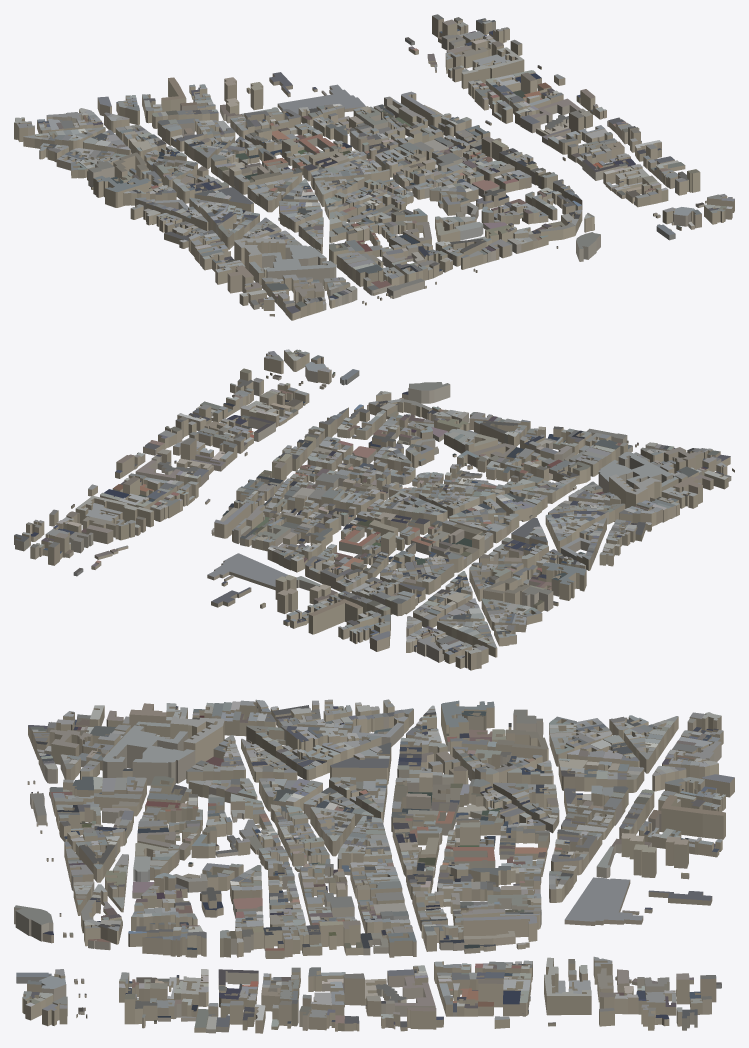
3 renders of one model, top to bottom at view 1: azimuth 30°, elevation 25°; view 2: azimuth 150°, elevation 25°; view 3: azimuth 270°, elevation 25°, orthographic. The views are drawn at different scales.
Parts seen in each view (by area): view 1: tuile; view 2: tuile; view 3: tuile.
Boxes of the visible parts, x1,y1,x2,y2 form: tuile: [14, 14, 734, 320]; tuile: [14, 349, 734, 670]; tuile: [14, 699, 734, 1033].
Size of the model in its own units: 1033 by 60.96 by 1034.
